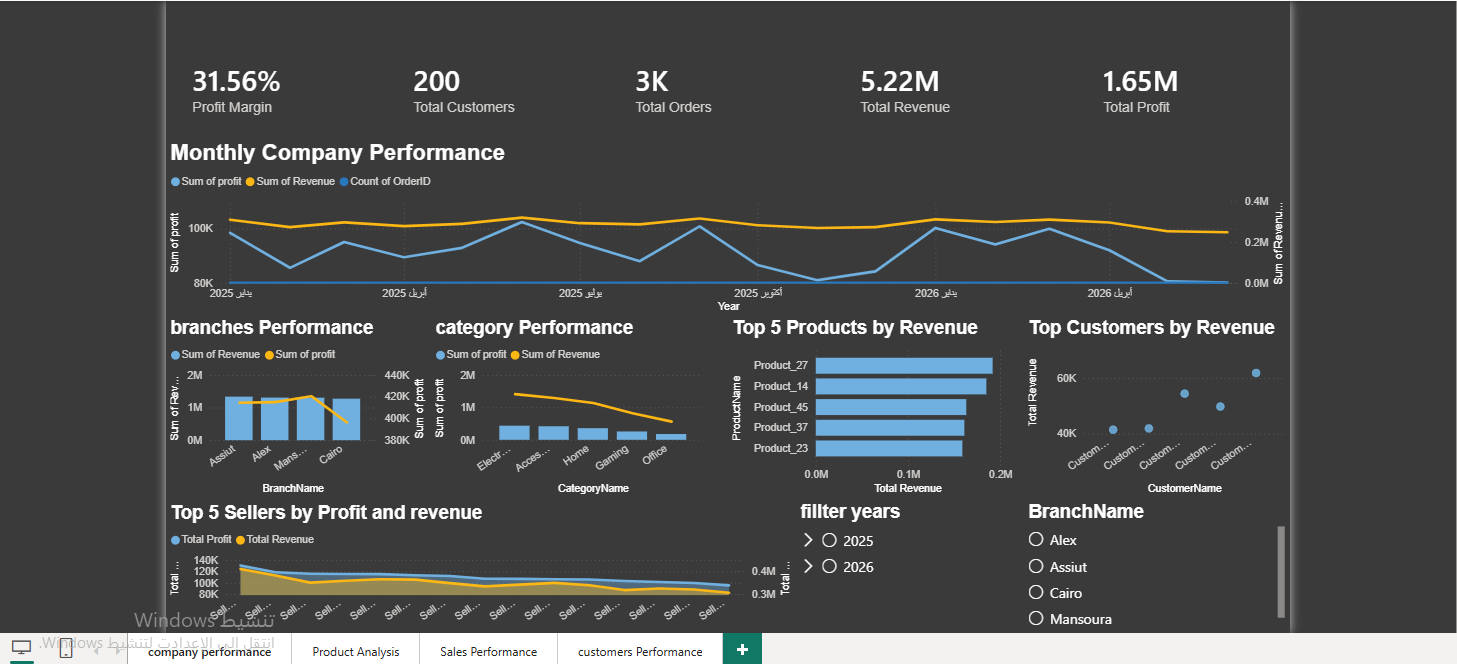

Layout of this report page (visuals, bound fields, positions):
{"tool":"powerbi","page":{"name":"company performance","canvas":[1280,720],"ordinal":0},"visuals":[{"type":"cardVisual","fields":{"Data":["Sheet.profit margin"]},"box":[0,38.6,242.9,119.5],"z":0},{"type":"cardVisual","fields":{"Data":["Sheet.total customers"]},"box":[251.9,38.6,242.9,119.5],"z":1000},{"type":"cardVisual","fields":{"Data":["Sheet.total orders"]},"box":[505.1,38.6,242.9,119.5],"z":2000},{"type":"cardVisual","fields":{"Data":["Sheet.total profit"]},"box":[1038.4,38.6,241.6,119.5],"z":3000},{"type":"cardVisual","fields":{"Data":["Sheet.total revenue"]},"box":[760.8,38.6,241.6,119.5],"z":4000},{"type":"lineChart","title":"Monthly Company Performance","fields":{"Category":["Table1.OrderDate.Variation.Date Hierarchy.Year","Table1.OrderDate.Variation.Date Hierarchy.Month"],"Y":["Sum(Table1.profit)"],"Y2":["Sum(Table1.Revenue)","CountNonNull(Table1.OrderID)"]},"box":[0,158.1,1280,201.8],"z":5000},{"type":"lineStackedColumnComboChart","title":"branches Performance","fields":{"Category":["Sheet.BranchName"],"Y":["Sum(Table1.Revenue)"],"Y2":["Sum(Table1.profit)"]},"box":[0,360,301.9,207.3],"z":6000},{"type":"lineClusteredColumnComboChart","title":"category Performance","fields":{"Category":["Sheet (5).CategoryName"],"Y":["Sum(Table1.profit)"],"Y2":["Sum(Table1.Revenue)"]},"box":[302,359.8,314.9,206.9],"z":7000},{"type":"clusteredBarChart","title":"Top 5 Products by Revenue","fields":{"Category":["Sheet (2).ProductName"],"Y":["Sheet.total revenue"]},"box":[640,359.8,329,206.9],"z":8000},{"type":"scatterChart","title":"Top Customers by Revenue","fields":{"X":["Sheet (4).CustomerName"],"Y":["Sheet.total revenue"]},"box":[978,359.8,302,206.9],"z":9000},{"type":"areaChart","title":"Top 5 Sellers by Profit and revenue","fields":{"Category":["Sheet (3).SellerName"],"Y":["Sheet.total profit"],"Y2":["Sheet.total revenue"]},"box":[0,570.6,718.4,149.1],"z":10000},{"type":"listSlicer","title":"fillter years","fields":{"Values":["Table1.OrderDate.Variation.Date Hierarchy.Year","Table1.OrderDate.Variation.Date Hierarchy.Quarter","Table1.OrderDate.Variation.Date Hierarchy.Month","Table1.OrderDate.Variation.Date Hierarchy.Day"]},"box":[718,570,250,150],"z":11000},{"type":"listSlicer","fields":{"Values":["Sheet.BranchName"]},"box":[978,570,302,150],"z":12000}]}

Visuals, with their boxes on the page's 1280x720 design canvas (x1, y1, x2, y2). These are canvas units, not pixel positions in the 1457x664 screenshot, which may show the page scaled, cropped or inside an application window:
cardVisual - Sheet.profit margin: bbox=[0, 39, 243, 158]
cardVisual - Sheet.total customers: bbox=[252, 39, 495, 158]
cardVisual - Sheet.total orders: bbox=[505, 39, 748, 158]
cardVisual - Sheet.total profit: bbox=[1038, 39, 1280, 158]
cardVisual - Sheet.total revenue: bbox=[761, 39, 1002, 158]
"Monthly Company Performance" lineChart: bbox=[0, 158, 1280, 360]
"branches Performance" lineStackedColumnComboChart: bbox=[0, 360, 302, 567]
"category Performance" lineClusteredColumnComboChart: bbox=[302, 360, 617, 567]
"Top 5 Products by Revenue" clusteredBarChart: bbox=[640, 360, 969, 567]
"Top Customers by Revenue" scatterChart: bbox=[978, 360, 1280, 567]
"Top 5 Sellers by Profit and revenue" areaChart: bbox=[0, 571, 718, 720]
"fillter years" listSlicer: bbox=[718, 570, 968, 720]
listSlicer - Sheet.BranchName: bbox=[978, 570, 1280, 720]
